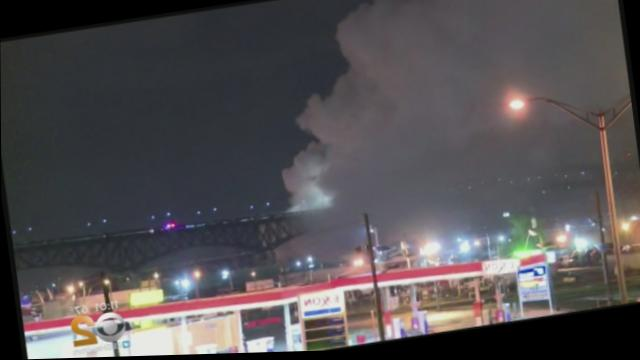smoke: (402, 0, 624, 107), (343, 0, 433, 237), (418, 99, 514, 234), (530, 106, 602, 216), (332, 22, 368, 209), (320, 83, 359, 250), (502, 118, 544, 222), (281, 144, 330, 213), (602, 130, 639, 218), (527, 80, 629, 111), (307, 209, 340, 254), (297, 95, 326, 146), (282, 240, 307, 258)
